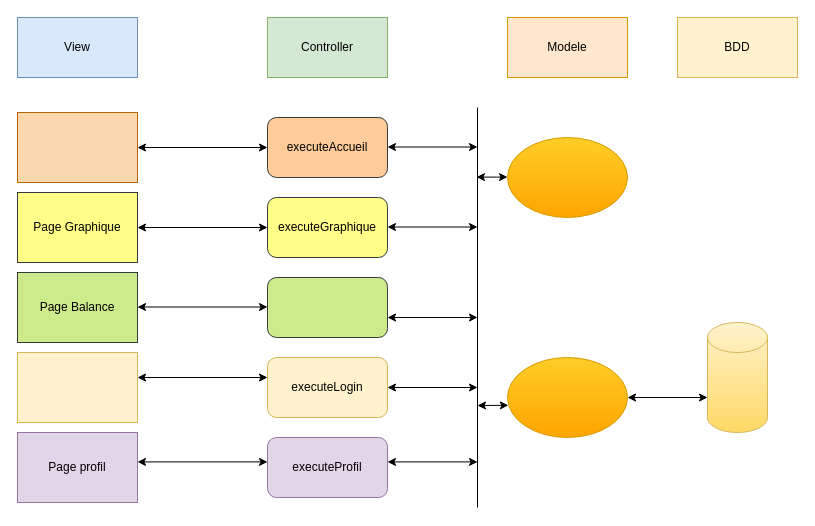
The diagram is 815 pixels wide and 526 high, and some of its shapes have lost their labels. The centre of each missing label's shape, as x and y in pixels:
"Classes" belongs at point (567, 177).
"DBManager" belongs at point (567, 397).
"executeBalance" belongs at point (327, 307).
"Page d'accueil" belongs at point (77, 147).
"Page Login" belongs at point (77, 387).
